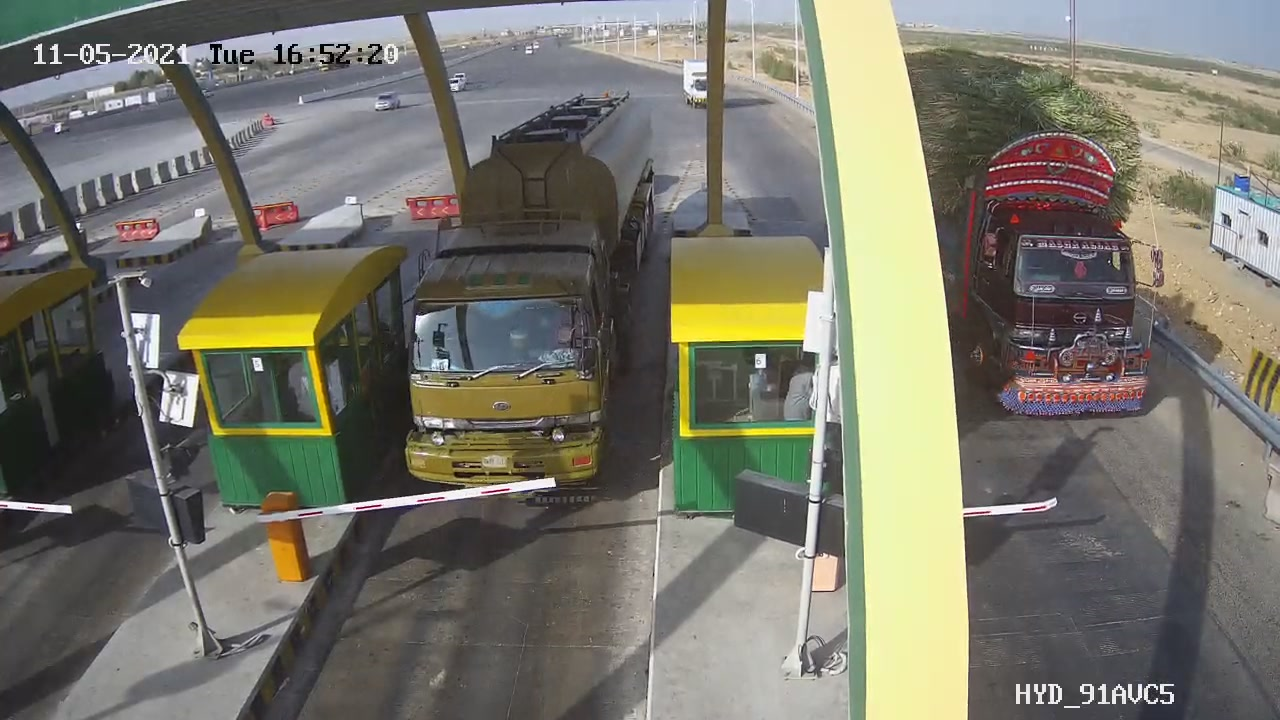F6: (366, 80, 676, 521)
